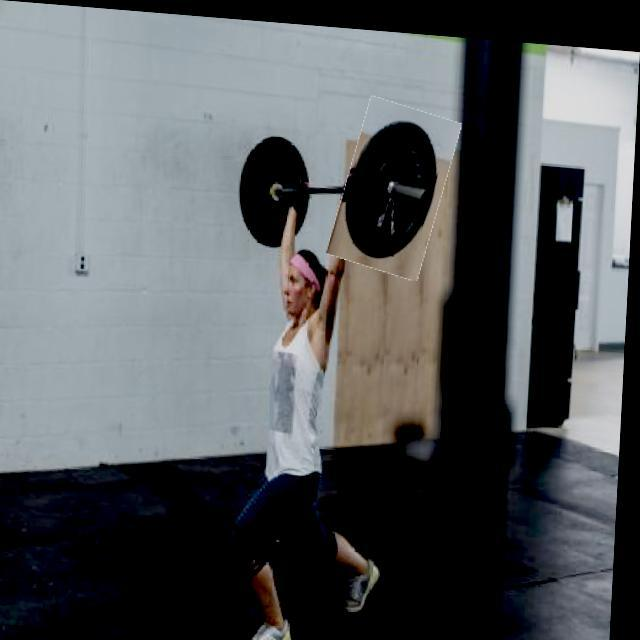barbell: (338, 92, 456, 272)
